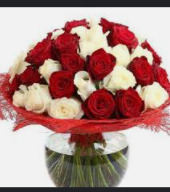RedRose: (81, 90, 117, 119), (86, 49, 118, 80), (108, 25, 137, 55), (116, 89, 145, 116), (52, 31, 81, 58), (49, 70, 75, 99), (128, 57, 154, 85), (62, 52, 87, 74)
